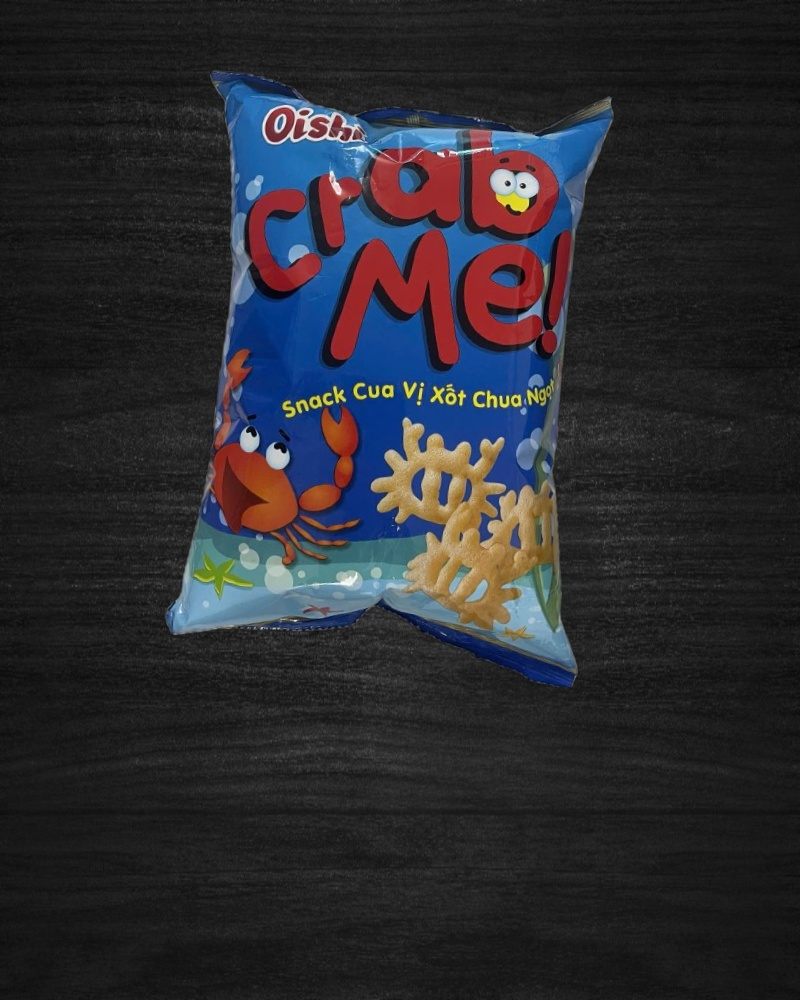Snack chay: (160, 62, 628, 691)
